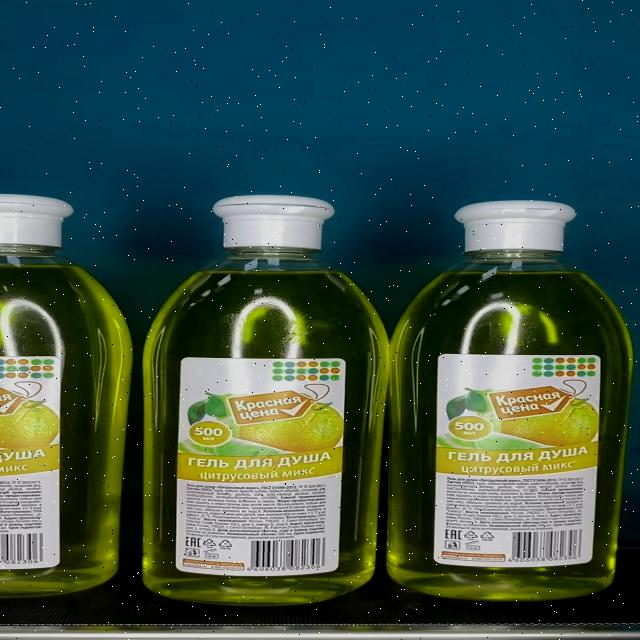Bottle: (143, 195, 388, 606), (388, 200, 634, 600)
Cap: (454, 200, 578, 252), (213, 196, 336, 248)
